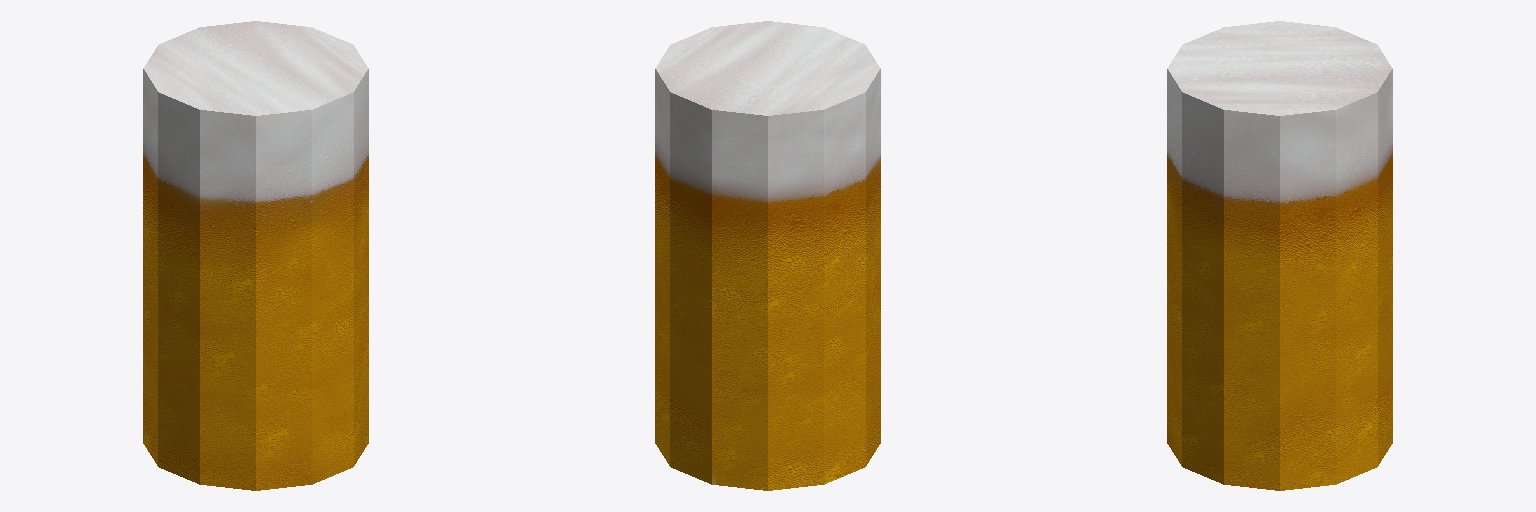
The picture shows the model from 3 angles: view 1: azimuth 30°, elevation 25°; view 2: azimuth 150°, elevation 25°; view 3: azimuth 270°, elevation 25°; orthographic projection.
Parts seen in each view (by area): view 1: Cylinder01; view 2: Cylinder01; view 3: Cylinder01.
Part boxes in pixels (x1,y1,x2,y2): Cylinder01: (143,21,368,490); Cylinder01: (655,21,880,490); Cylinder01: (1167,21,1392,490).
Bounding box in the file's own units: 15.24 × 28 × 15.24.
1 materials, 1 textured.